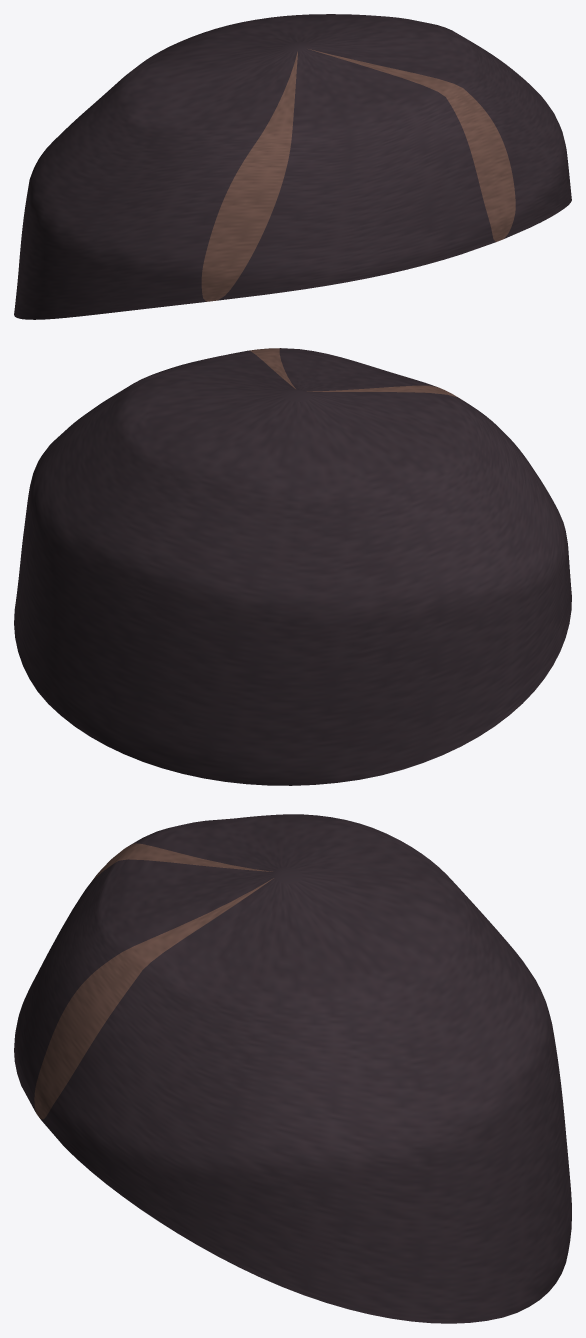
The model's file is hair_crew_default.gltf.
The picture shows the model from 3 angles, top to bottom: view 1: azimuth 30°, elevation 25°; view 2: azimuth 150°, elevation 25°; view 3: azimuth 270°, elevation 25°; orthographic projection. The views are drawn at different scales.
Visible parts, largest first — view 1: Campus Crew Cut default; view 2: Campus Crew Cut default; view 3: Campus Crew Cut default.
Part boxes in pixels (x1,y1,x2,y2): Campus Crew Cut default: (14, 14, 571, 319); Campus Crew Cut default: (14, 348, 571, 785); Campus Crew Cut default: (14, 814, 571, 1323).
Bounding box in the file's own units: 0.4553 × 0.2536 × 0.3494.
2 materials, 2 textured.
